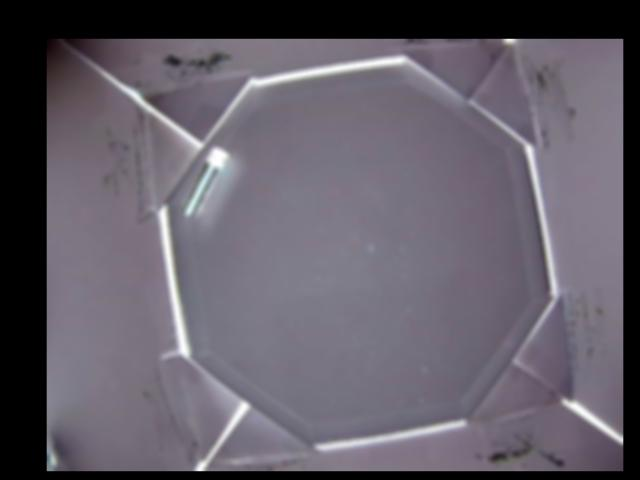Battery: (181, 147, 229, 218)
